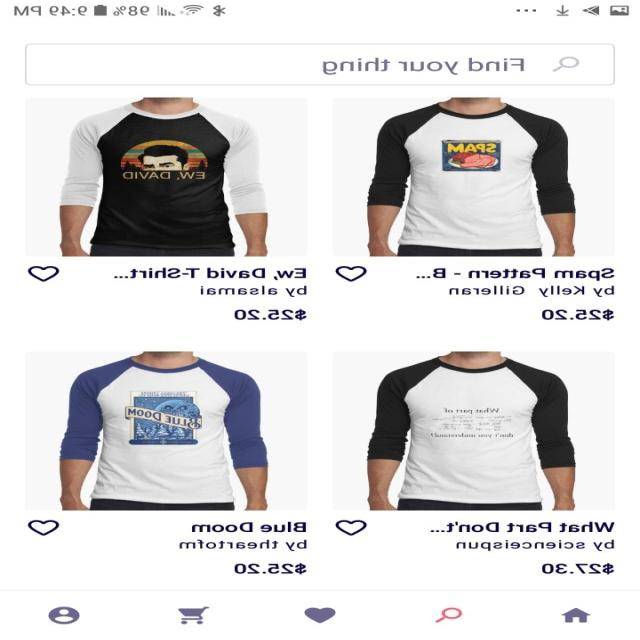EditText: (25, 43, 616, 85)
Icon: (178, 605, 210, 624), (49, 606, 81, 624), (304, 606, 337, 623), (335, 519, 368, 536), (28, 265, 61, 282), (28, 519, 62, 535), (335, 266, 368, 281), (561, 607, 591, 622), (552, 56, 580, 72), (436, 607, 464, 622)
Image: (26, 97, 308, 256), (334, 352, 615, 511), (27, 351, 308, 510), (333, 97, 614, 256)
Text: (416, 267, 616, 297), (115, 267, 308, 297), (430, 520, 614, 551), (180, 521, 308, 551), (322, 57, 526, 75), (235, 308, 308, 321), (542, 308, 614, 321), (235, 562, 308, 574), (542, 563, 614, 574)
